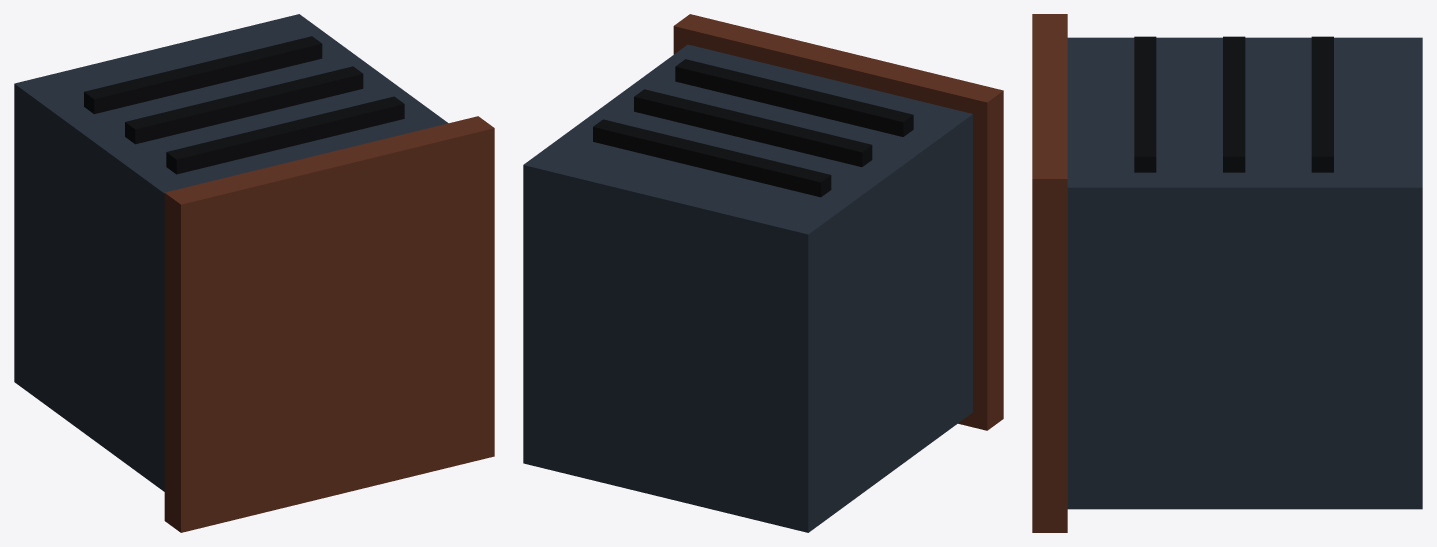
Rendered from ENV_prop_crate.obj.
3 views of the same model, side by side, from view 1: azimuth 30°, elevation 25°; view 2: azimuth 150°, elevation 25°; view 3: azimuth 270°, elevation 25° (orthographic). The views are drawn at different scales.
Visible parts, largest first — view 1: ENV_prop_crate; view 2: ENV_prop_crate; view 3: ENV_prop_crate.
Boxes of the visible parts, x1,y1,x2,y2 form: ENV_prop_crate: (14,14,494,532); ENV_prop_crate: (523,14,1003,532); ENV_prop_crate: (1032,14,1422,532).
Size of the model in its own units: 0.88 by 0.88 by 0.88.
